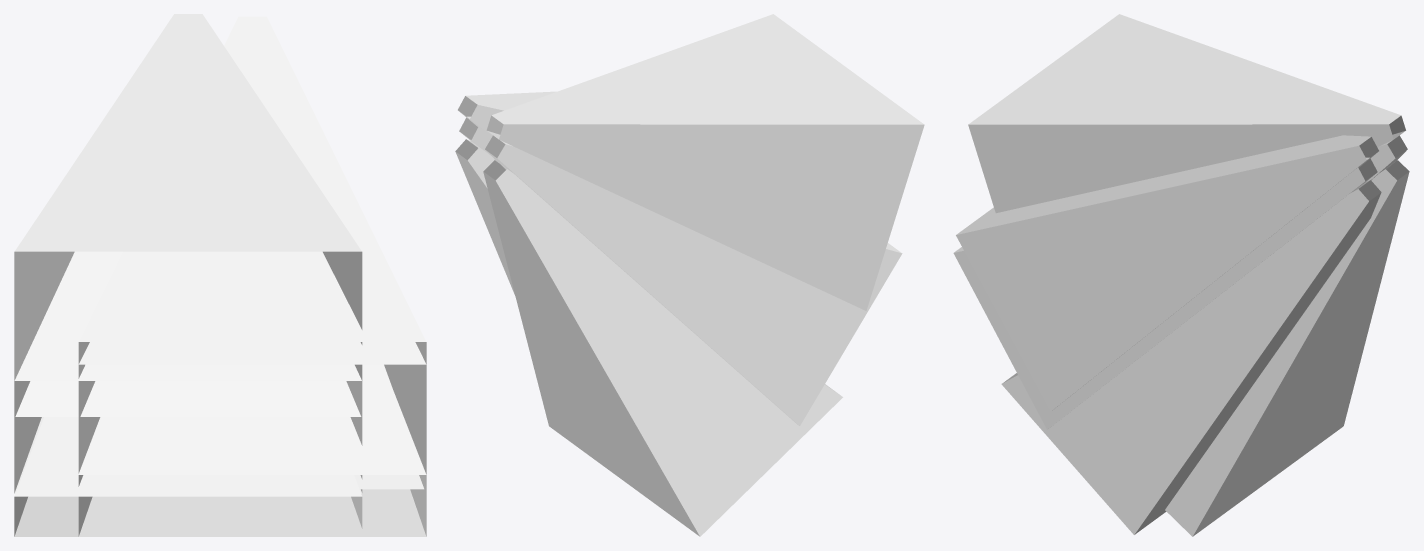
The model's file is vgsecnstrct13.obj.
3 renders of one model, left to right at view 1: azimuth 30°, elevation 25°; view 2: azimuth 150°, elevation 25°; view 3: azimuth 270°, elevation 25°, orthographic. The views are drawn at different scales.
Visible parts, largest first — view 1: vgsEcnstrct13; view 2: vgsEcnstrct13; view 3: vgsEcnstrct13.
Boxes of the visible parts, x1,y1,x2,y2 form: vgsEcnstrct13: (14, 14, 426, 536); vgsEcnstrct13: (455, 14, 924, 536); vgsEcnstrct13: (953, 14, 1409, 536).
Bounding box in the file's own units: 10.2 × 10.46 × 11.01.
1 material, 1 textured.
